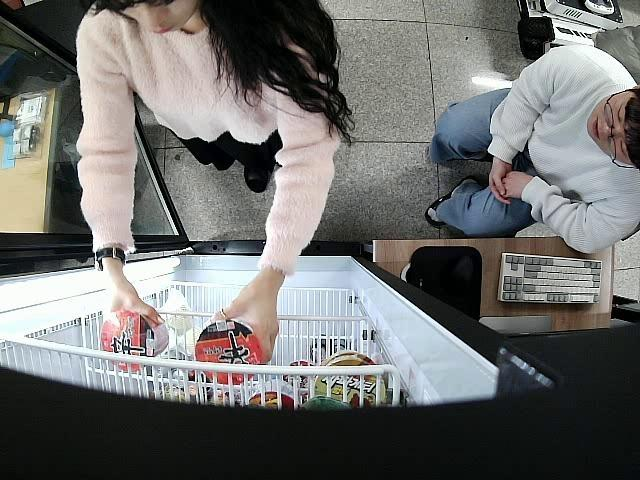02_shinRamen_S: (100, 311, 169, 372), (196, 322, 260, 386)
